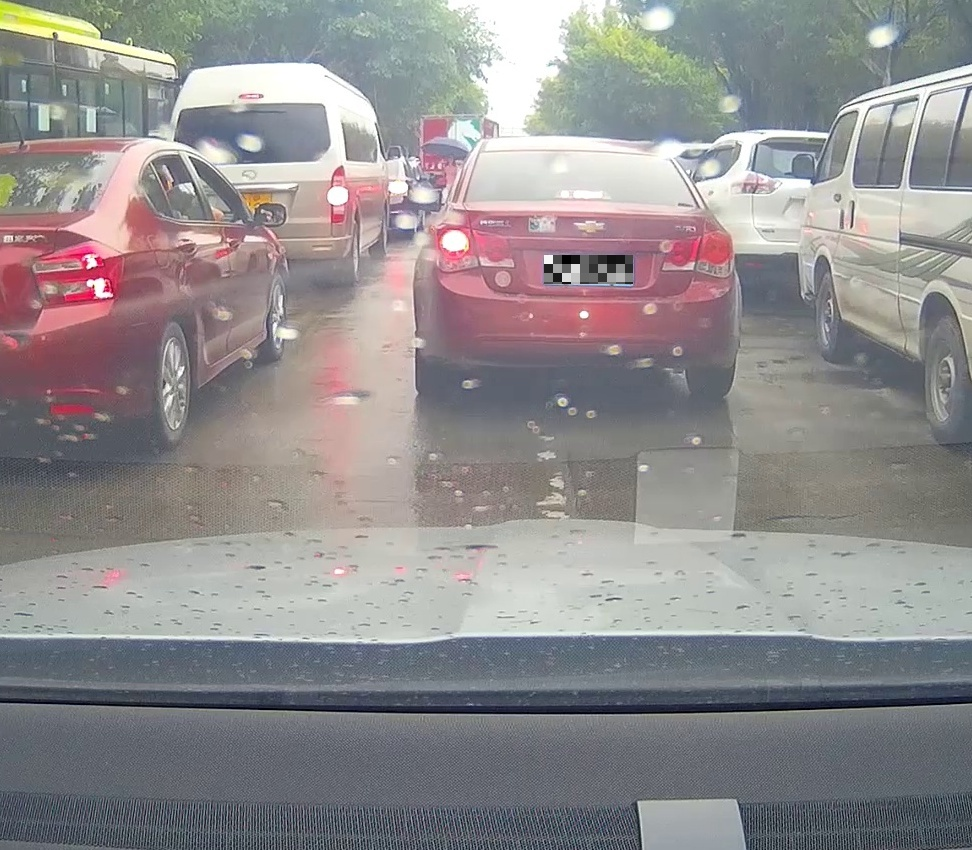L_light: (434, 224, 514, 274)
R_light: (660, 230, 735, 278)
T_light: (556, 188, 608, 200)
day-left: (427, 141, 738, 398)
plate_1: (544, 255, 633, 284)
